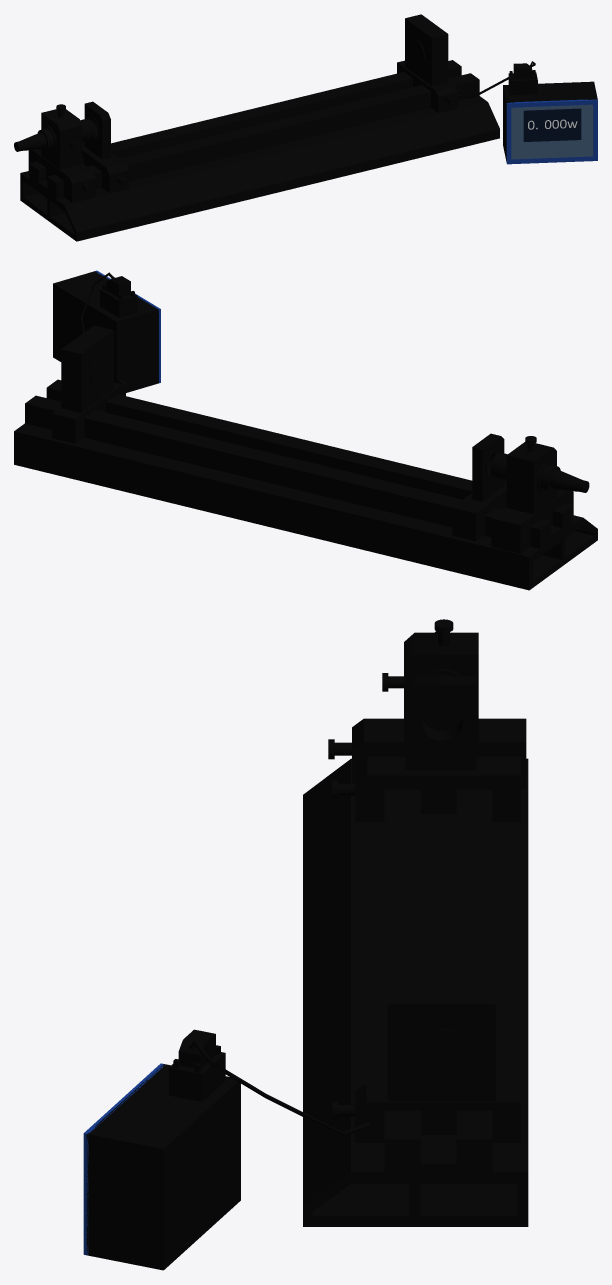
Rendered from lazer.fbx.
3 renders of one model, top to bottom at view 1: azimuth 30°, elevation 25°; view 2: azimuth 150°, elevation 25°; view 3: azimuth 270°, elevation 25°, orthographic. The views are drawn at different scales.
Parts seen in each view (by area): view 1: Box001, Box004, Group004, Box006, Box005, Box009, Box007, Box008, Box002, Cylinder007, Box010; view 2: Box001, Box007, Box004, Box006, Box005, Box002, Cylinder007, Box010; view 3: Box001, Box007, Box005, Box006, Box004, Box002, Tube005, Box010, Box008, Tube004, Cylinder014, Box011 (+1 smaller).
Boxes of the visible parts, bbox=[...] form: Box001: bbox=[20, 60, 499, 241]; Box004: bbox=[28, 109, 96, 202]; Group004: bbox=[511, 104, 593, 159]; Box006: bbox=[405, 14, 448, 86]; Box005: bbox=[82, 101, 128, 193]; Box009: bbox=[523, 108, 581, 141]; Box007: bbox=[503, 81, 597, 161]; Box008: bbox=[506, 99, 597, 164]; Box002: bbox=[397, 60, 457, 112]; Cylinder007: bbox=[14, 118, 95, 151]; Box010: bbox=[508, 72, 537, 94]; Box001: bbox=[14, 379, 597, 590]; Box007: bbox=[53, 271, 158, 392]; Box004: bbox=[491, 442, 573, 553]; Box006: bbox=[61, 325, 113, 412]; Box005: bbox=[452, 433, 506, 541]; Box002: bbox=[52, 383, 125, 443]; Cylinder007: bbox=[490, 452, 589, 492]; Box010: bbox=[100, 288, 137, 317]; Box001: bbox=[303, 758, 528, 1226]; Box007: bbox=[86, 1064, 240, 1270]; Box005: bbox=[355, 676, 520, 821]; Box006: bbox=[387, 988, 495, 1101]; Box004: bbox=[352, 632, 526, 789]; Box002: bbox=[355, 1083, 520, 1142]; Tube005: bbox=[415, 1029, 466, 1075]; Box010: bbox=[169, 1052, 225, 1101]; Box008: bbox=[83, 1063, 164, 1255]; Tube004: bbox=[416, 698, 467, 744]; Cylinder014: bbox=[189, 1040, 371, 1136]; Box011: bbox=[178, 1029, 215, 1068].
Size of the model in its own units: 131 by 25.71 by 49.5.
